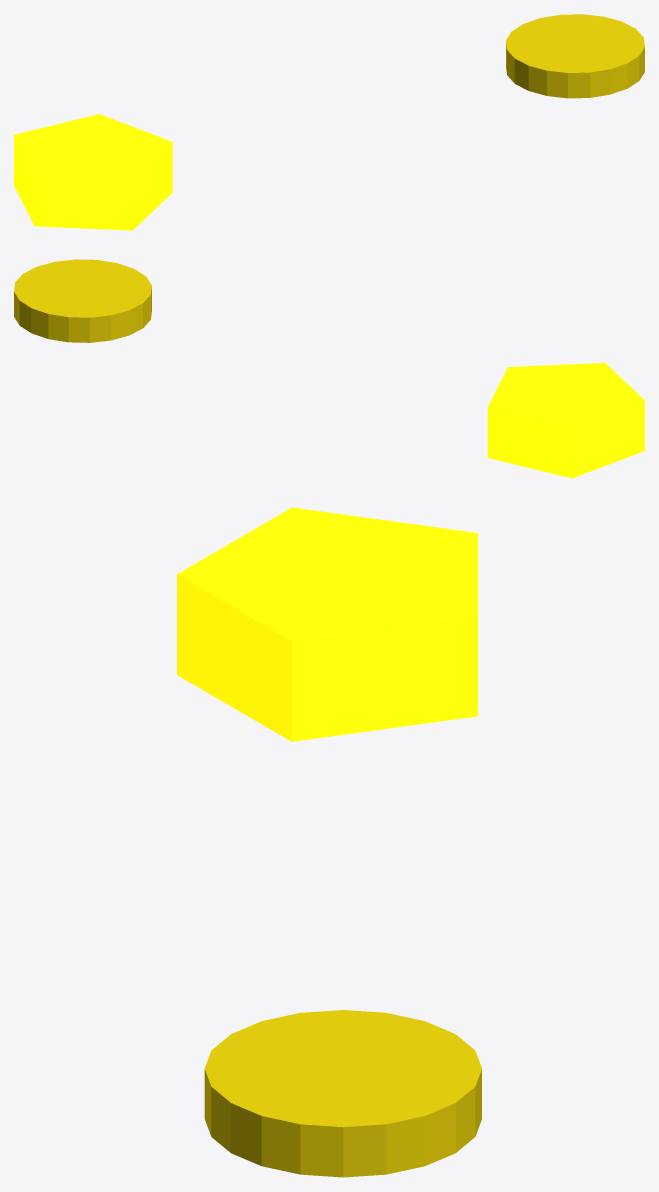
File: collectibles.glb
3 renders of one model, top to bottom at view 1: azimuth 30°, elevation 25°; view 2: azimuth 150°, elevation 25°; view 3: azimuth 270°, elevation 25°, orthographic. The views are drawn at different scales.
Parts seen in each view (by area): view 1: Star, Coin; view 2: Star, Coin; view 3: Star, Coin.
Boxes of the visible parts, box(x1,y1,x2,y2) form: Star: box(14, 114, 172, 230); Coin: box(506, 14, 644, 98); Star: box(487, 363, 644, 478); Coin: box(14, 259, 151, 342); Star: box(177, 507, 477, 741); Coin: box(204, 1010, 481, 1177).
Size of the model in its own units: 2.54 by 0.2 by 0.55.
